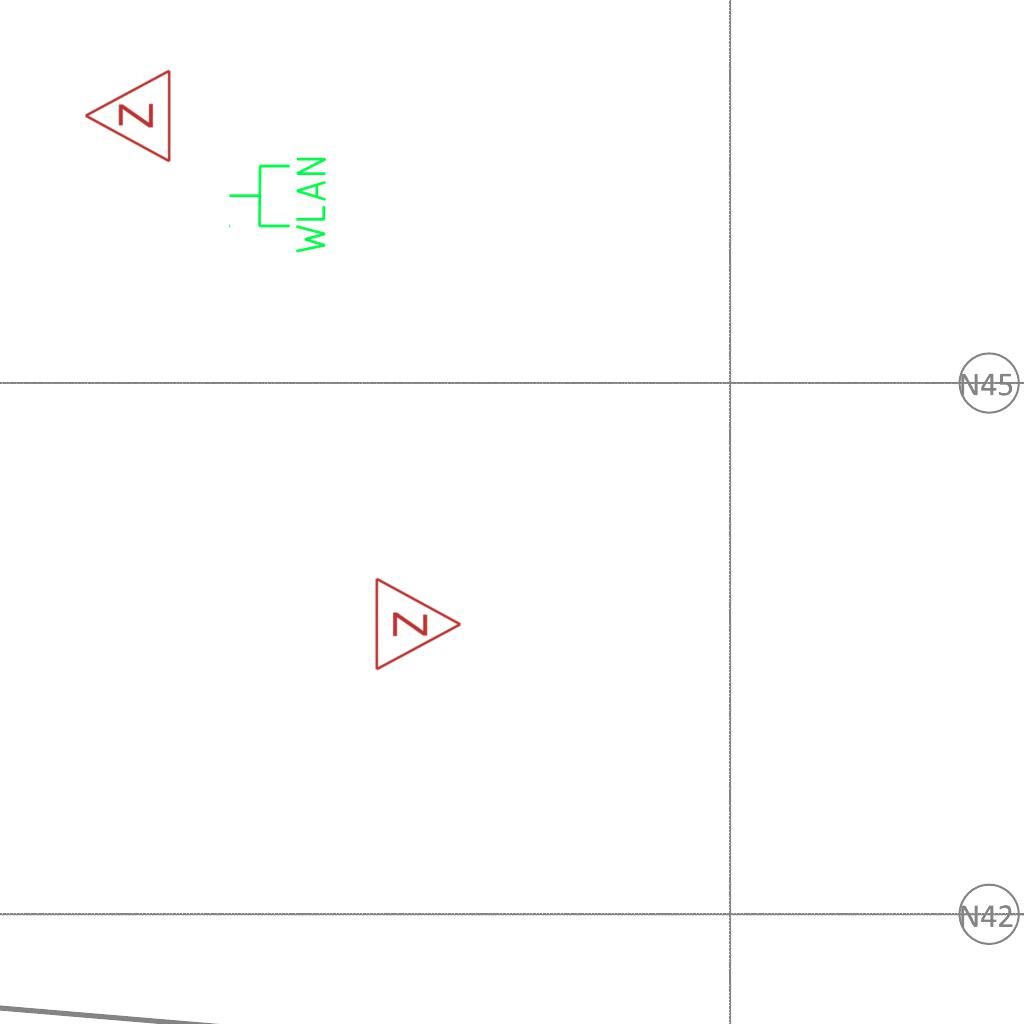WLAN: (226, 153, 330, 258)
Zimmersignalleuchte: (78, 68, 178, 166), (368, 574, 468, 672)
